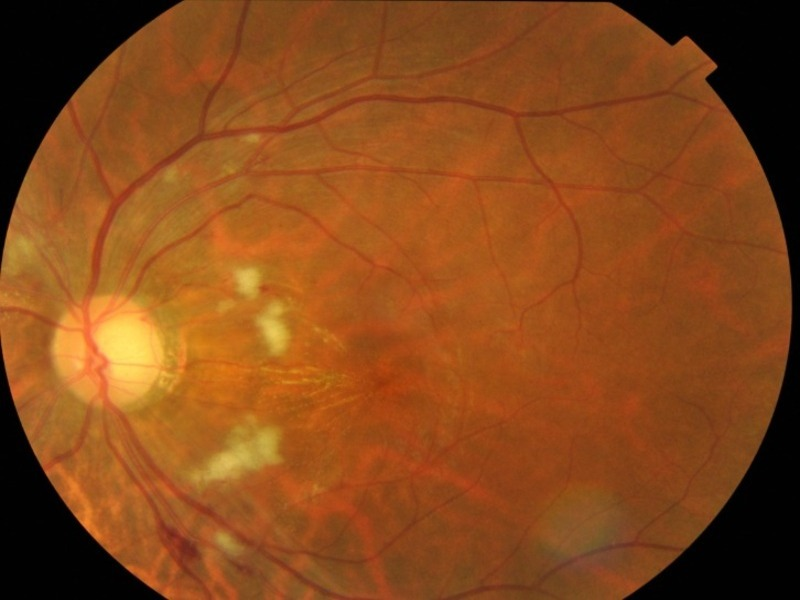Optic Cup: (93, 326, 143, 391)
Optic Disc: (52, 293, 161, 410)
